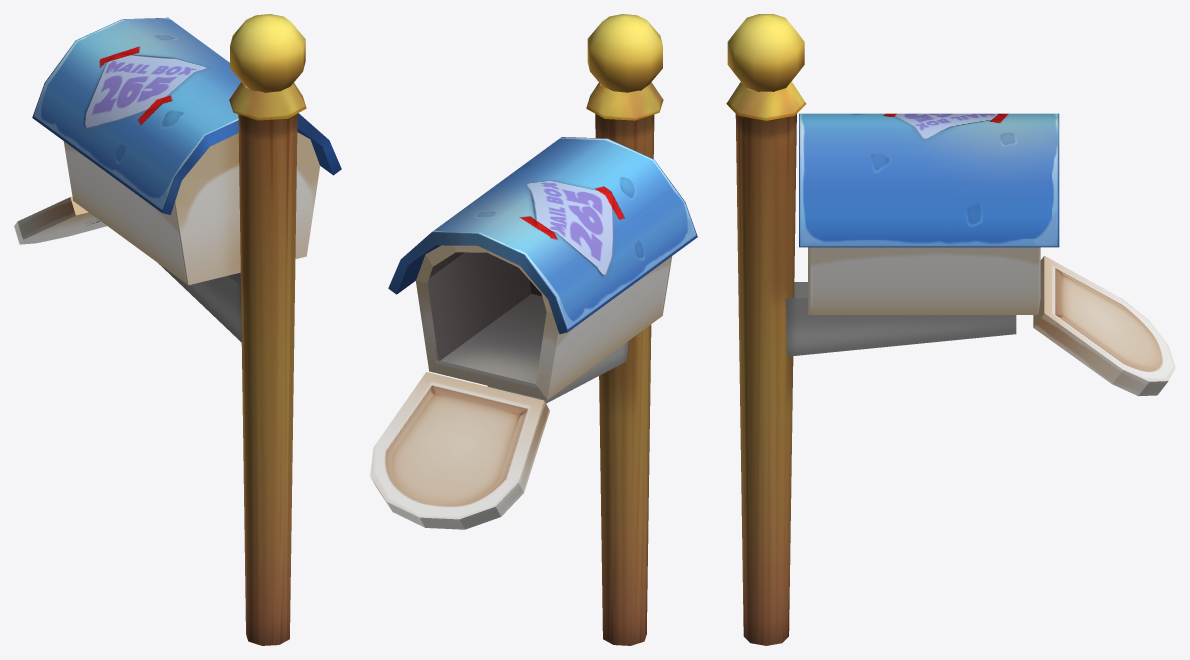
File: mailbox.FBX
3 views of the same model, side by side, from view 1: azimuth 30°, elevation 25°; view 2: azimuth 150°, elevation 25°; view 3: azimuth 270°, elevation 25° (orthographic).
Parts seen in each view (by area): view 1: mailbox; view 2: mailbox; view 3: mailbox.
Boxes of the visible parts, x1=… form: mailbox: x1=14, y1=14, x2=341, y2=645; mailbox: x1=370, y1=14, x2=697, y2=645; mailbox: x1=726, y1=14, x2=1175, y2=645.
Size of the model in its own units: 33.83 by 112 by 73.29.
